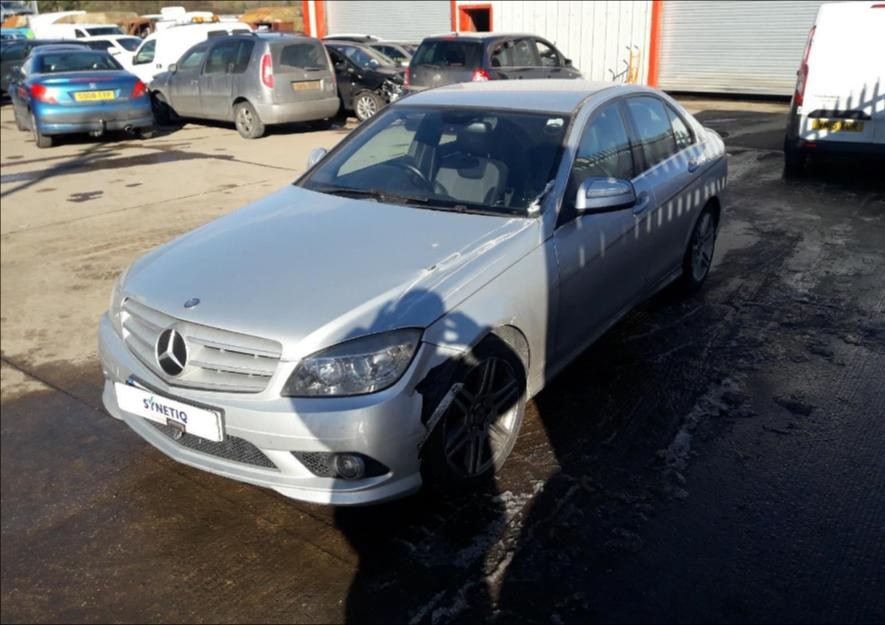Broken part: (97, 310, 466, 507)
Cracked: (301, 105, 575, 214)
Paint chip: (427, 265, 437, 270)
Scratch: (398, 218, 525, 301), (424, 218, 537, 291), (440, 255, 504, 302), (397, 292, 427, 319), (439, 250, 475, 271), (389, 300, 398, 312), (456, 339, 465, 349), (135, 294, 145, 301), (429, 242, 439, 248), (509, 315, 516, 323), (522, 218, 531, 224), (388, 322, 395, 329), (116, 365, 119, 375), (111, 361, 114, 370)
